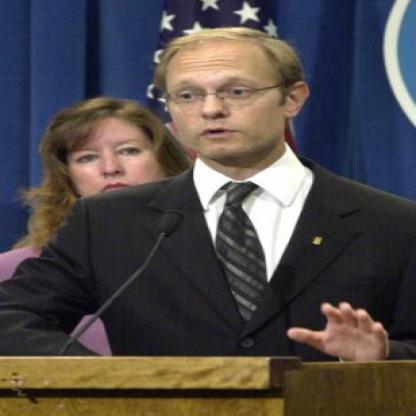face: (167, 32, 290, 165), (61, 104, 172, 209)
